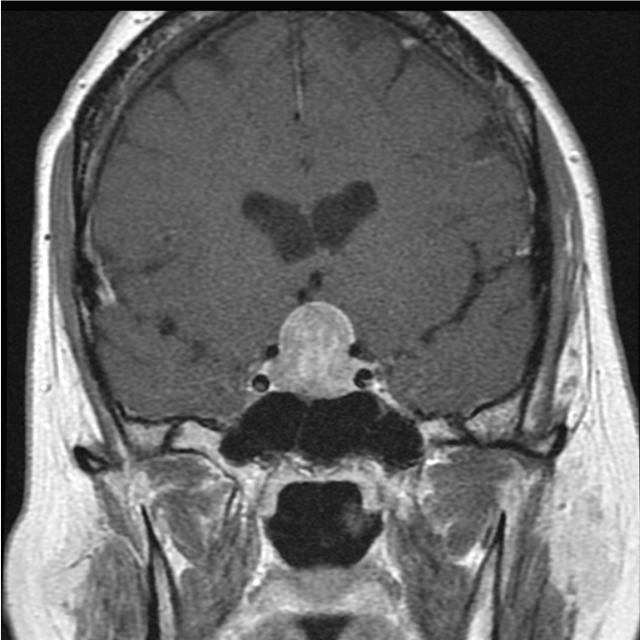brain_tumor: (274, 302, 372, 401)
